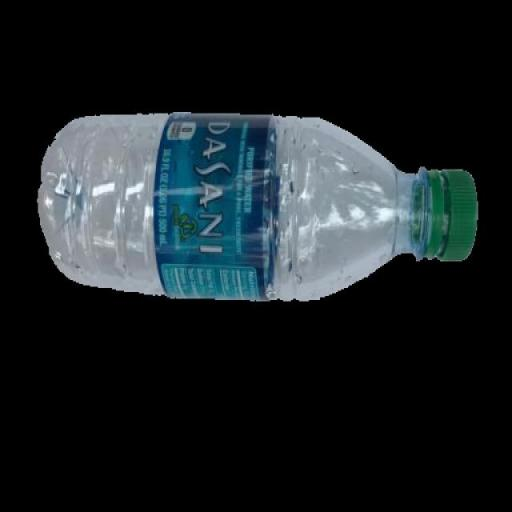plastic: (38, 110, 484, 302)
